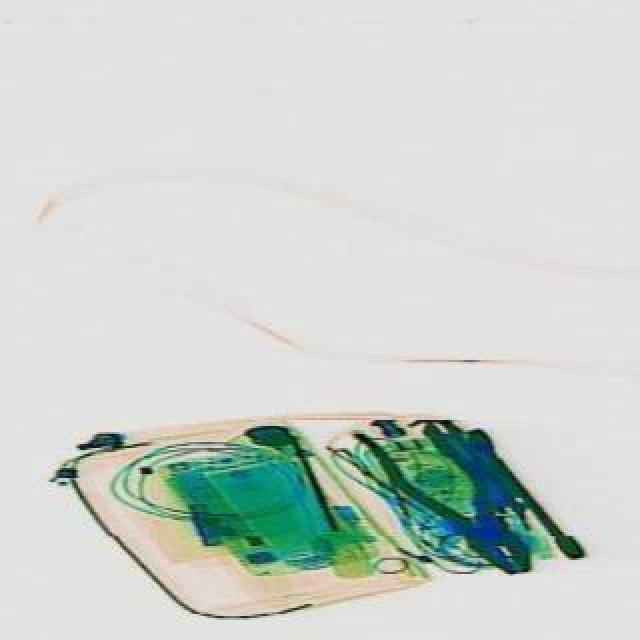wrench: (346, 388, 542, 600)
